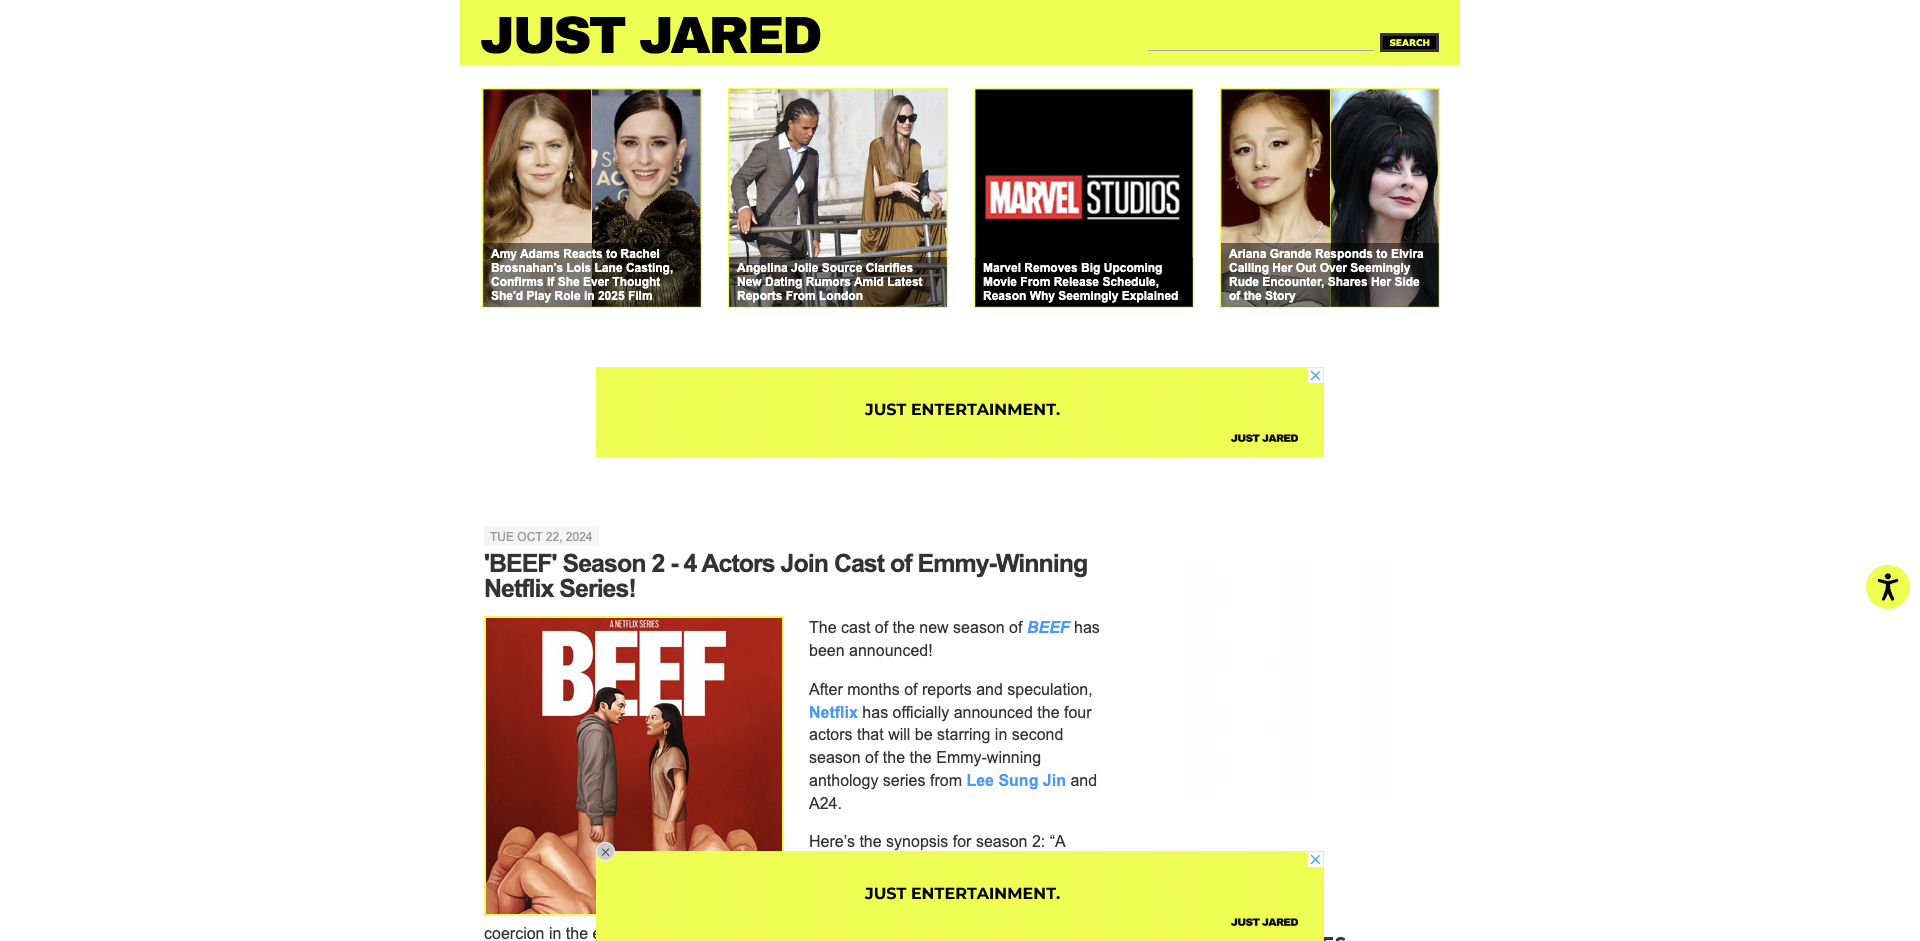button: (1866, 565, 1910, 609), (596, 842, 615, 861)
input: (1147, 33, 1374, 51), (1380, 33, 1439, 51)
link: (480, 9, 980, 81), (484, 549, 1087, 602), (491, 248, 693, 303), (1229, 248, 1431, 303), (737, 261, 939, 303), (983, 261, 1185, 303), (966, 772, 1067, 789), (809, 703, 858, 720), (1027, 619, 1069, 636)
